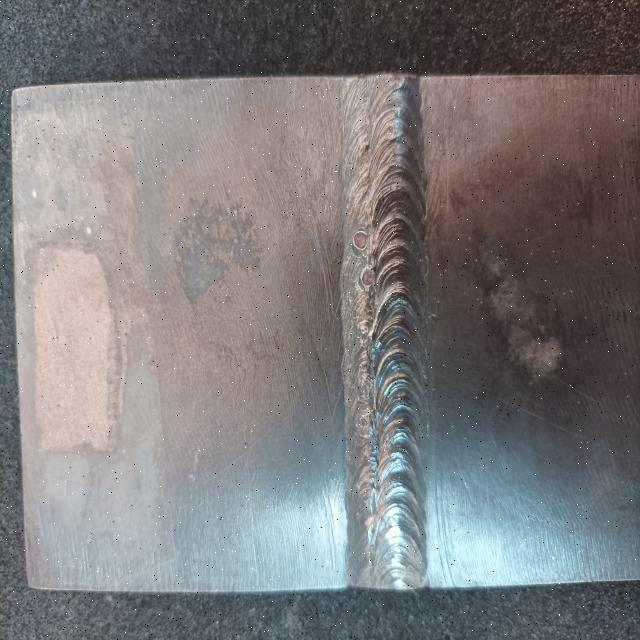Porosity: (350, 222, 370, 253), (356, 373, 375, 400), (361, 264, 378, 292), (358, 410, 377, 434), (360, 138, 373, 153)
